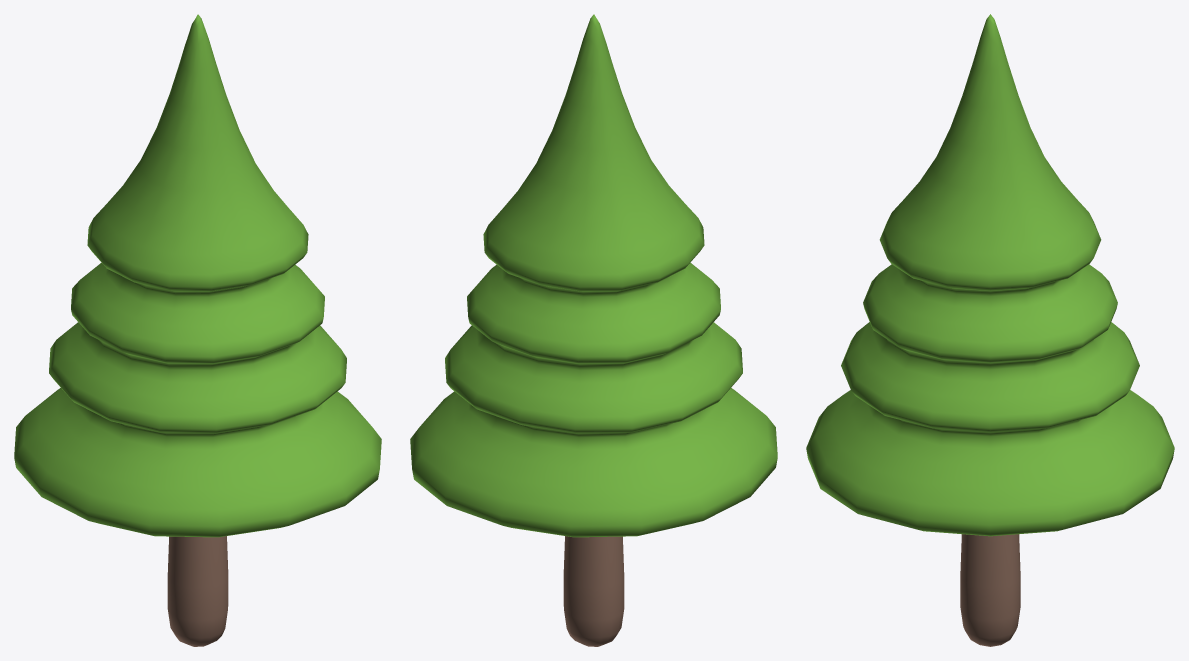
File: tree0.fbx
3 views of the same model, side by side, from view 1: azimuth 30°, elevation 25°; view 2: azimuth 150°, elevation 25°; view 3: azimuth 270°, elevation 25° (orthographic).
Parts seen in each view (by area): view 1: tree.001; view 2: tree.001; view 3: tree.001.
Part boxes in pixels (box(x1,y1,x2,y2)): tree.001: box(14, 14, 381, 646); tree.001: box(410, 14, 777, 646); tree.001: box(806, 14, 1174, 646).
Bounding box in the file's own units: 526 × 1002 × 531.
